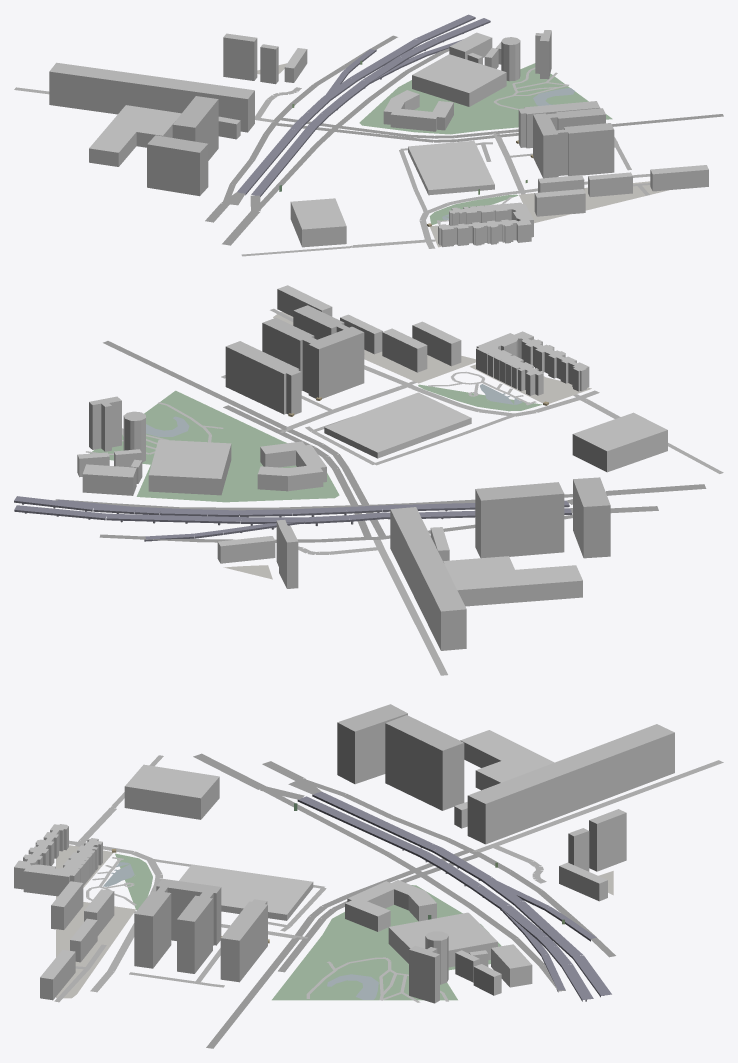
3 views of the same model, one above another, from view 1: azimuth 30°, elevation 25°; view 2: azimuth 150°, elevation 25°; view 3: azimuth 270°, elevation 25° (orthographic). The views are drawn at different scales.
Size of the model in its own units: 653 by 62.34 by 636.
